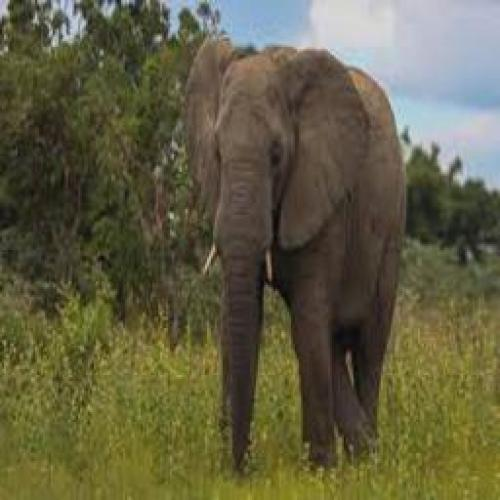african_elephant-endangered: (176, 25, 408, 477)
